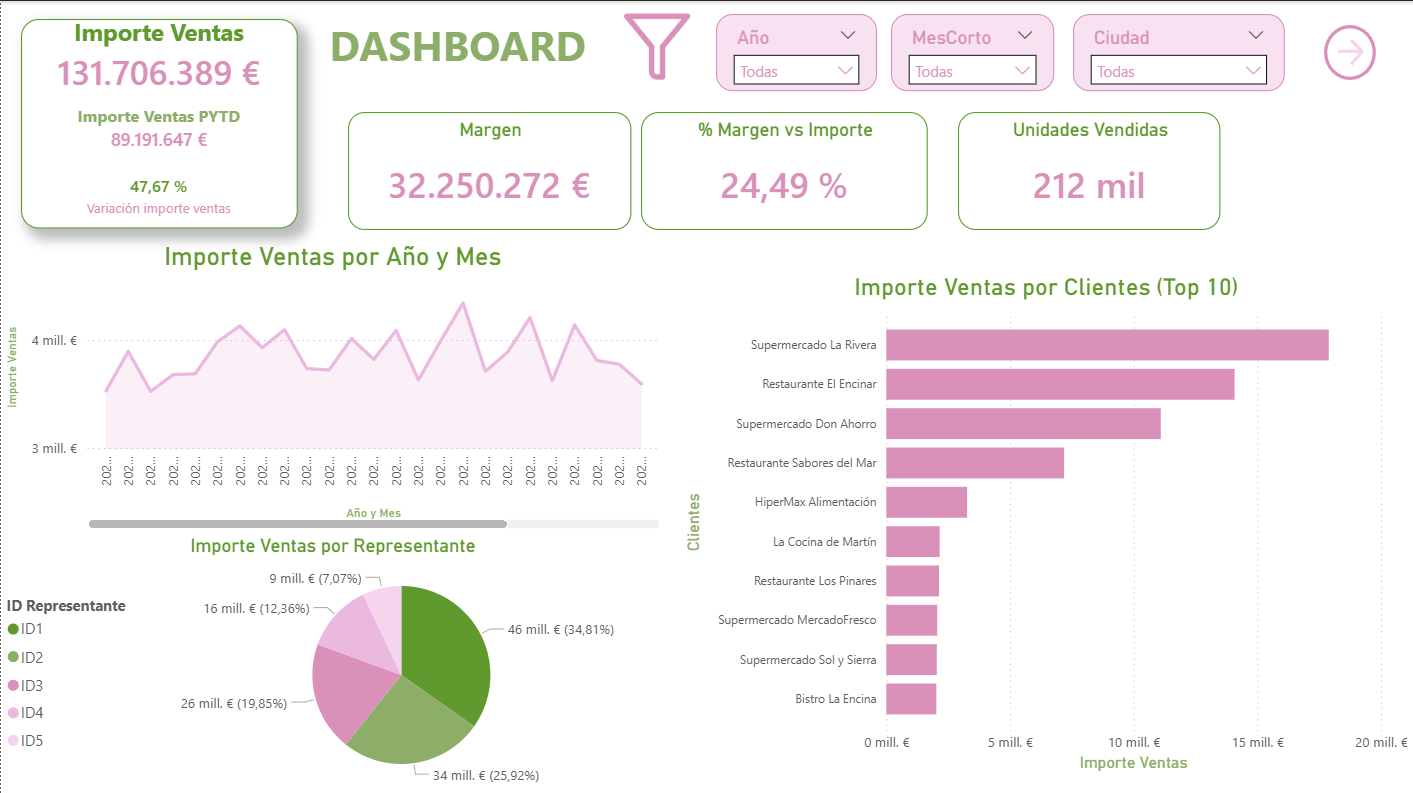

Layout of this report page (visuals, bound fields, positions):
{"tool":"powerbi","page":{"name":"Dashboard General","canvas":[1280,720],"ordinal":0},"visuals":[{"type":"slicer","fields":{"Values":["Dim_Calendar.Fecha.Variación.Jerarquía de fechas.Año"]},"box":[648.4,11.8,146,69.8],"z":0},{"type":"slicer","fields":{"Values":["Dim_Calendar.MesCorto"]},"box":[807.1,11.8,147.8,69.8],"z":1000},{"type":"slicer","fields":{"Values":["Dim_Customers.Zona"]},"box":[972.1,11.8,192.2,69.8],"z":2000},{"type":"stackedAreaChart","title":"Importe Ventas por Año y Mes","fields":{"Category":["Dim_Calendar.AnyoMes"],"Y":["Medidas.Importe Ventas"]},"box":[0,218.5,602.1,264.8],"z":3000},{"type":"cardVisual","title":"Unidades Vendidas","fields":{"Data":["Medidas.Unidades Vendidas"]},"box":[867.8,100.7,238.5,107],"z":4000},{"type":"pieChart","title":"Importe Ventas por Representante","fields":{"Category":["Fact_Table.ID_Representante"],"Y":["Medidas.Importe Ventas"]},"box":[0,483.3,602.1,236.7],"z":5000},{"type":"cardVisual","title":"Margen","fields":{"Data":["Medidas.Margen Ventas"]},"box":[314.7,100.7,256.6,107],"z":6000},{"type":"textbox","box":[292.9,9.1,272,64.4],"z":7000},{"type":"cardVisual","title":"% Margen  vs Importe","fields":{"Data":["Medidas.% Margen vs Importe YTD"]},"box":[580.4,100.7,260.3,107],"z":8000},{"type":"cardVisual","fields":{"Data":["Medidas.Importe Ventas","Medidas.Importe Ventas PYTD","Medidas.Var_Importe Ventas"]},"box":[18.1,16.3,251.2,190.4],"z":9000},{"type":"image","box":[564.9,6.3,59.8,69.8],"z":10000},{"type":"barChart","title":"Importe Ventas por Clientes (Top 10)","fields":{"Y":["Medidas.Importe Ventas"],"Category":["Dim_Customers.Descrip_Cliente"]},"box":[614.8,246.6,665.6,457],"z":11000},{"type":"actionButton","box":[1199.7,21.8,47.2,49.9],"z":11001}]}

Visuals, with their boxes in screenshot pixels (x1, y1, x2, y2), scaled from the page's 1280x720 canvas onto the 1413x793 screenshot:
slicer - Dim_Calendar.Fecha.Variación.Jerarquía de fechas.Año: region(716, 13, 877, 90)
slicer - Dim_Calendar.MesCorto: region(891, 13, 1054, 90)
slicer - Dim_Customers.Zona: region(1073, 13, 1285, 90)
"Importe Ventas por Año y Mes" stackedAreaChart: region(0, 241, 665, 532)
"Unidades Vendidas" cardVisual: region(958, 111, 1221, 229)
"Importe Ventas por Representante" pieChart: region(0, 532, 665, 792)
"Margen" cardVisual: region(347, 111, 631, 229)
textbox: region(323, 10, 624, 81)
"% Margen  vs Importe" cardVisual: region(641, 111, 928, 229)
cardVisual - Medidas.Importe Ventas x Medidas.Importe Ventas PYTD: region(20, 18, 297, 228)
image: region(624, 7, 690, 84)
"Importe Ventas por Clientes (Top 10)" barChart: region(679, 272, 1412, 775)
actionButton: region(1324, 24, 1376, 79)
